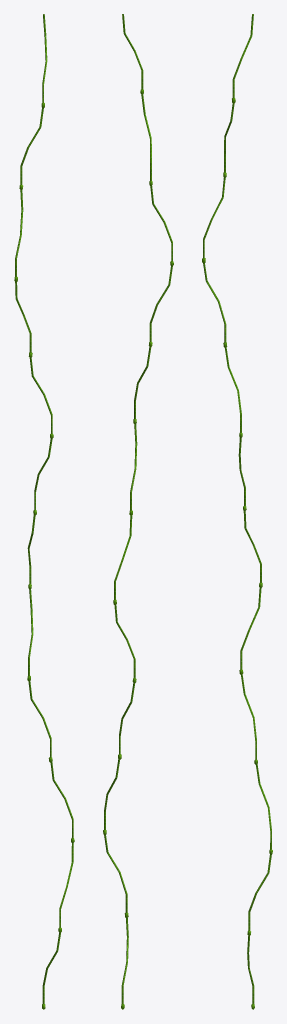
Rendered from TRUNKKKK.fbx.
3 views of the same model, side by side, from view 1: azimuth 30°, elevation 25°; view 2: azimuth 150°, elevation 25°; view 3: azimuth 330°, elevation 25° (orthographic).
Parts seen in each view (by area): view 1: Icosphere.010; view 2: Icosphere.010; view 3: Icosphere.010.
Boxes of the visible parts, bbox=[...] form: Icosphere.010: bbox=[14, 14, 74, 1009]; Icosphere.010: bbox=[103, 14, 173, 1009]; Icosphere.010: bbox=[202, 14, 272, 1009].
Bounding box in the file's own units: 989 × 14477 × 616.
Materials: 1 (1 with a texture image).
